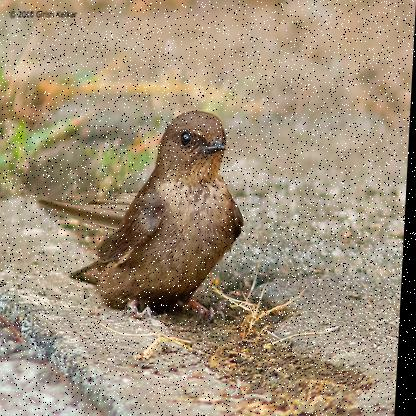Burung: (71, 109, 250, 313)
